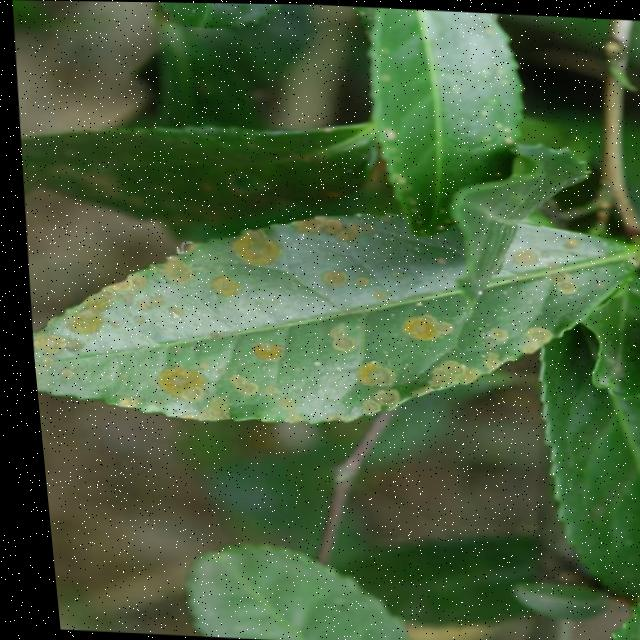Tea algae leaf spot: (35, 166, 558, 453)
